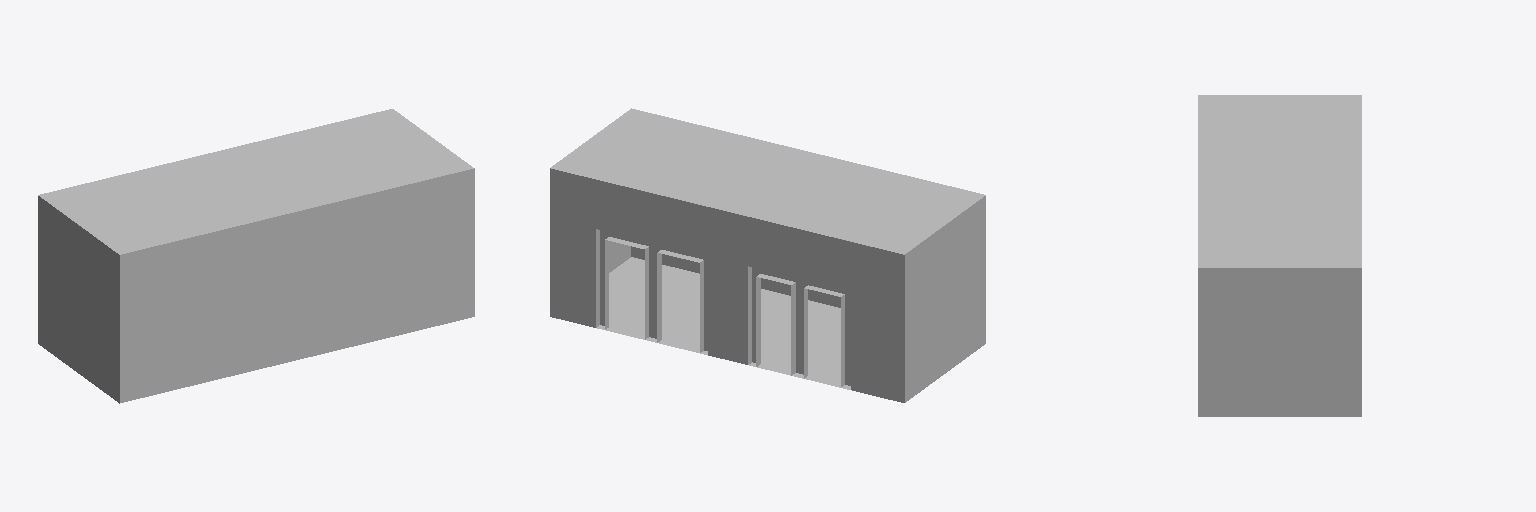
Rendered from tst_level.obj.
3 renders of one model, left to right at view 1: azimuth 30°, elevation 25°; view 2: azimuth 150°, elevation 25°; view 3: azimuth 270°, elevation 25°, orthographic.
Visible parts, largest first — view 1: tst_level; view 2: tst_level; view 3: tst_level.
Part boxes in pixels (x1,y1,x2,y2): tst_level: (38, 109, 474, 403); tst_level: (550, 108, 985, 402); tst_level: (1198, 95, 1361, 416).
Bounding box in the file's own units: 99.59 × 39.82 × 39.81.